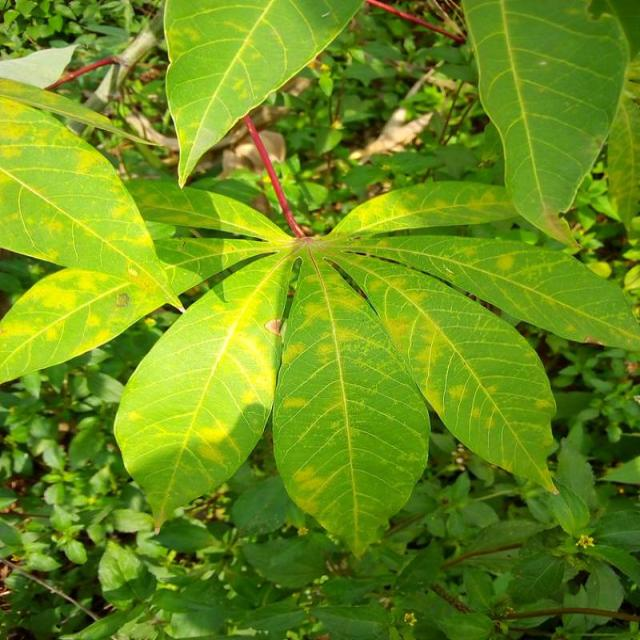cassava leaf: (0, 2, 638, 558), (112, 246, 294, 534), (272, 245, 431, 559), (460, 0, 630, 251), (162, 0, 364, 189)
